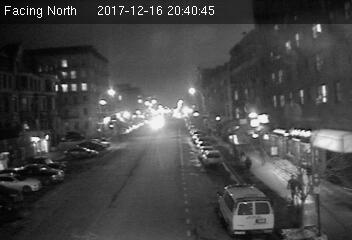car: (201, 149, 222, 165)
pedestrian: (243, 155, 254, 175)
police: (216, 182, 276, 237)
